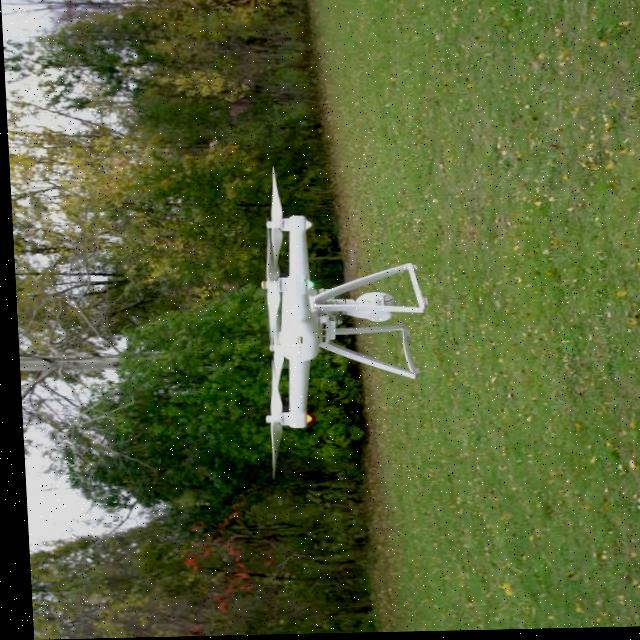drone: (234, 150, 444, 485)
